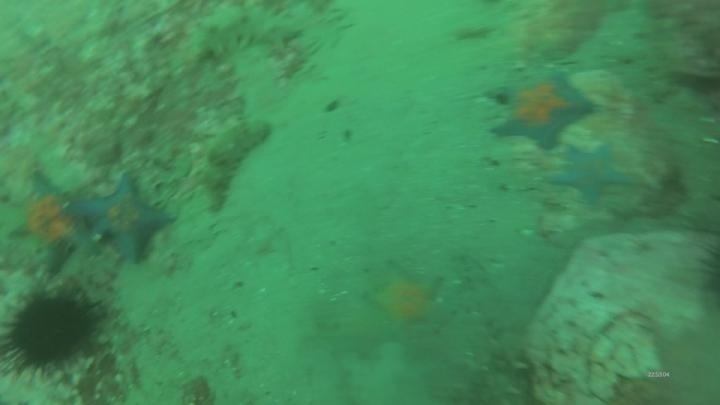echinus: (2, 286, 102, 378), (692, 239, 720, 314)
holothurian: (195, 117, 273, 215), (182, 4, 305, 64), (468, 328, 531, 405)
starfish: (73, 171, 176, 266), (485, 71, 597, 153), (5, 172, 90, 276), (364, 261, 452, 343), (546, 141, 637, 208)
